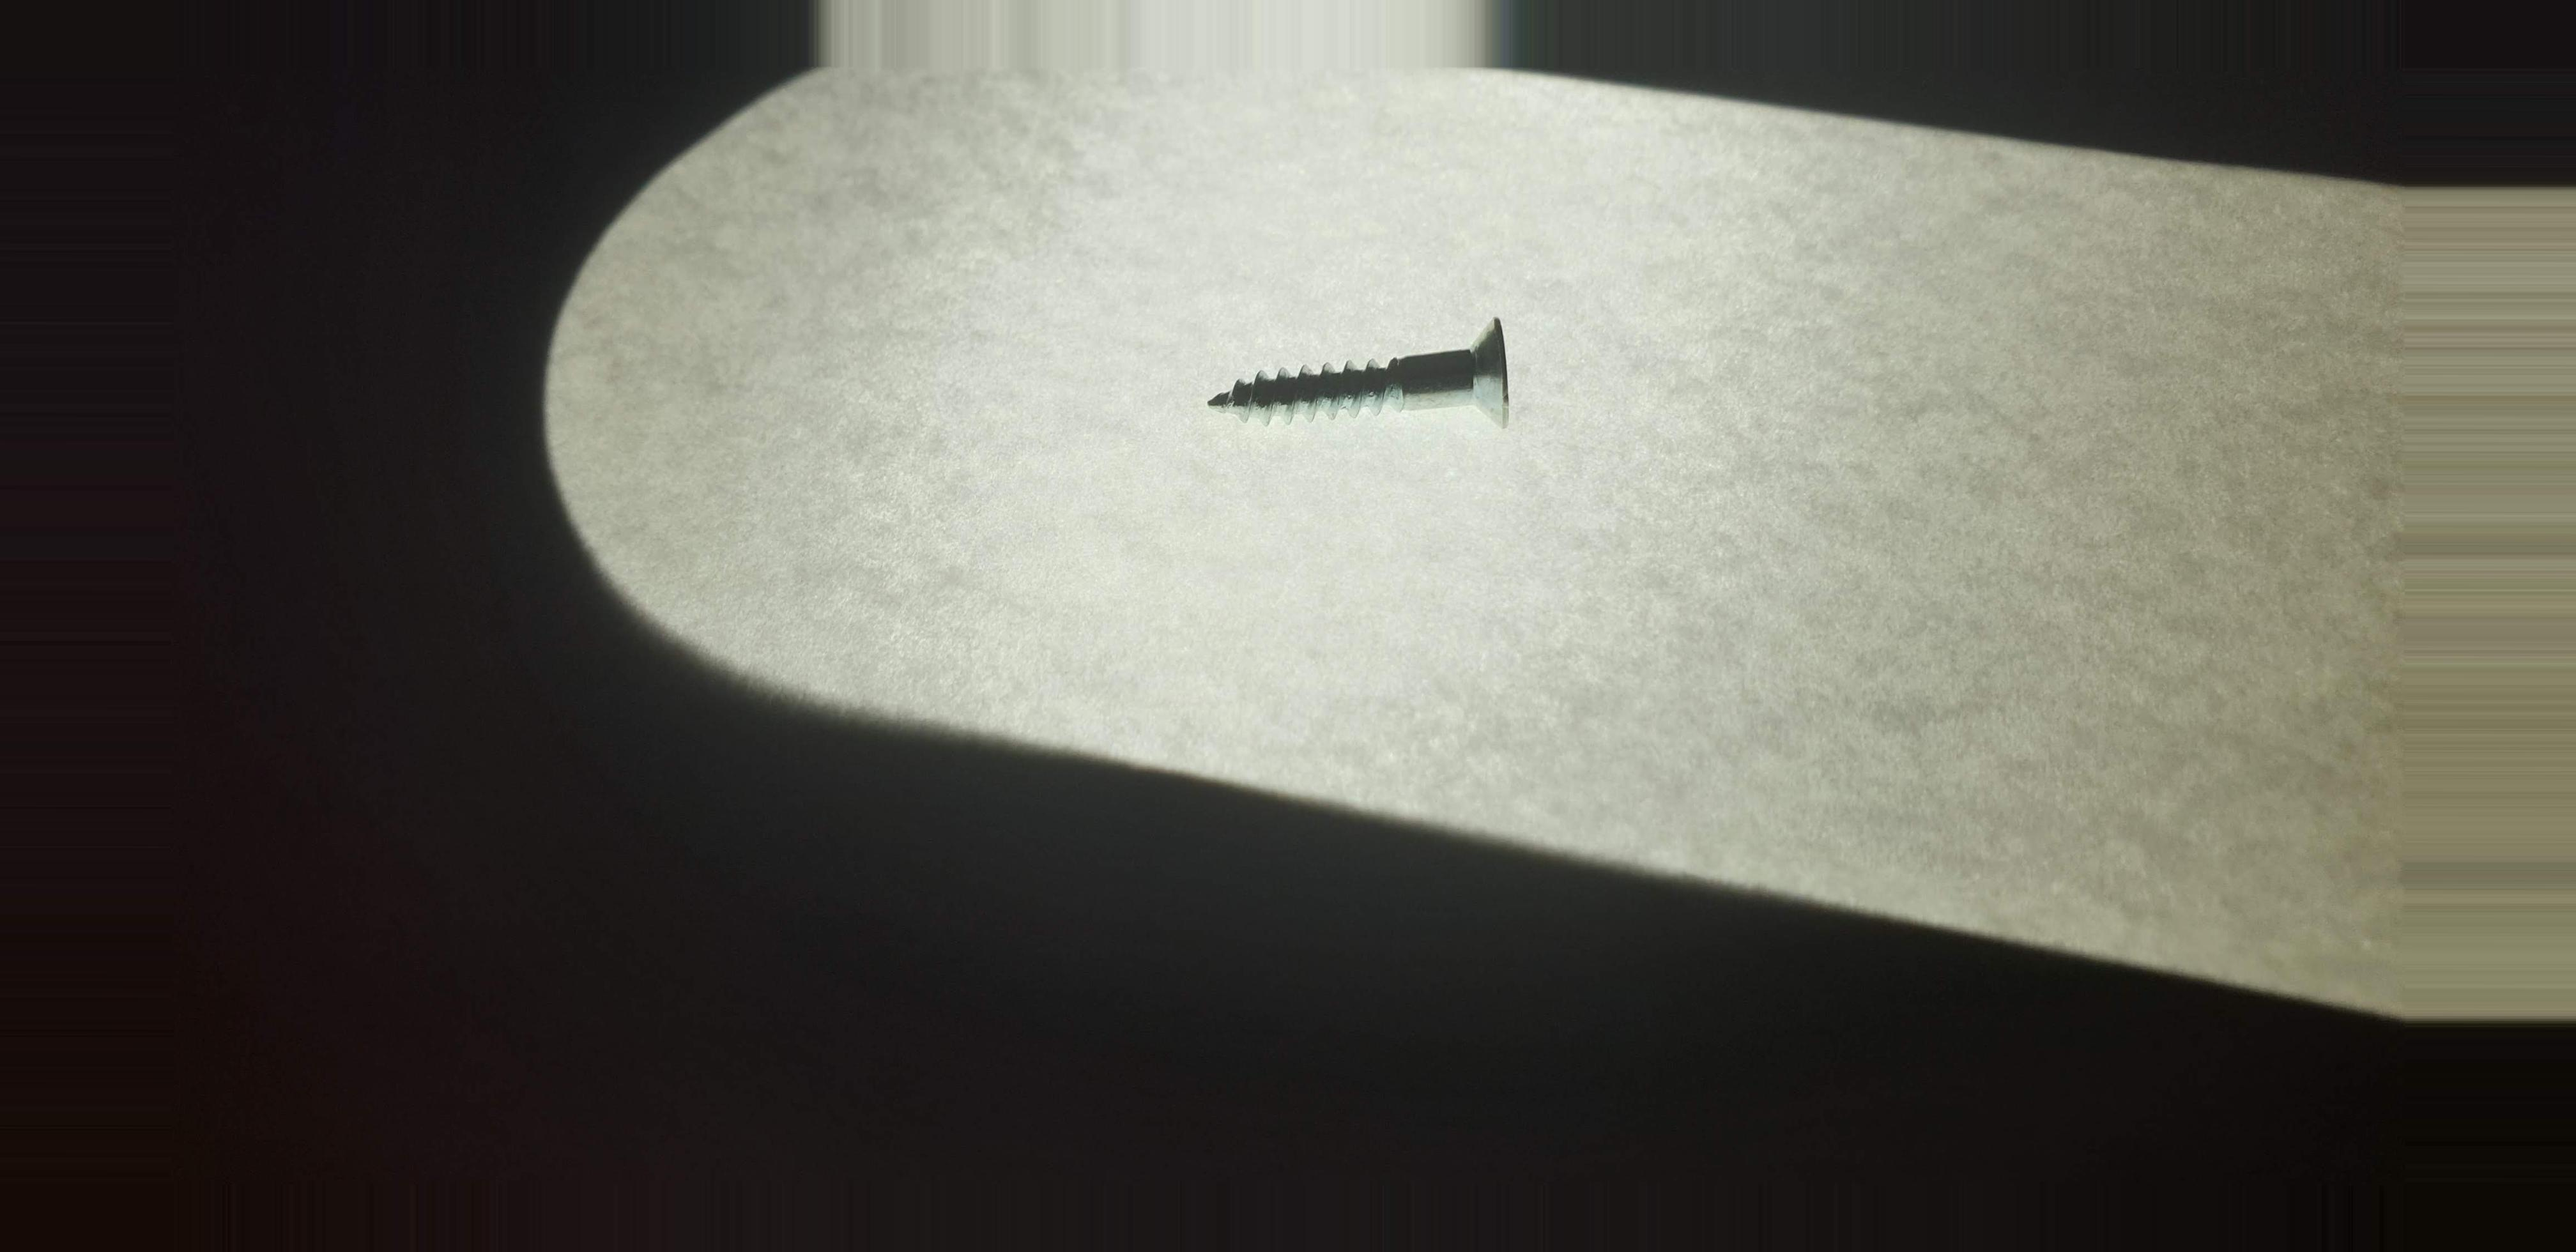S005: (1161, 288, 1584, 450)
